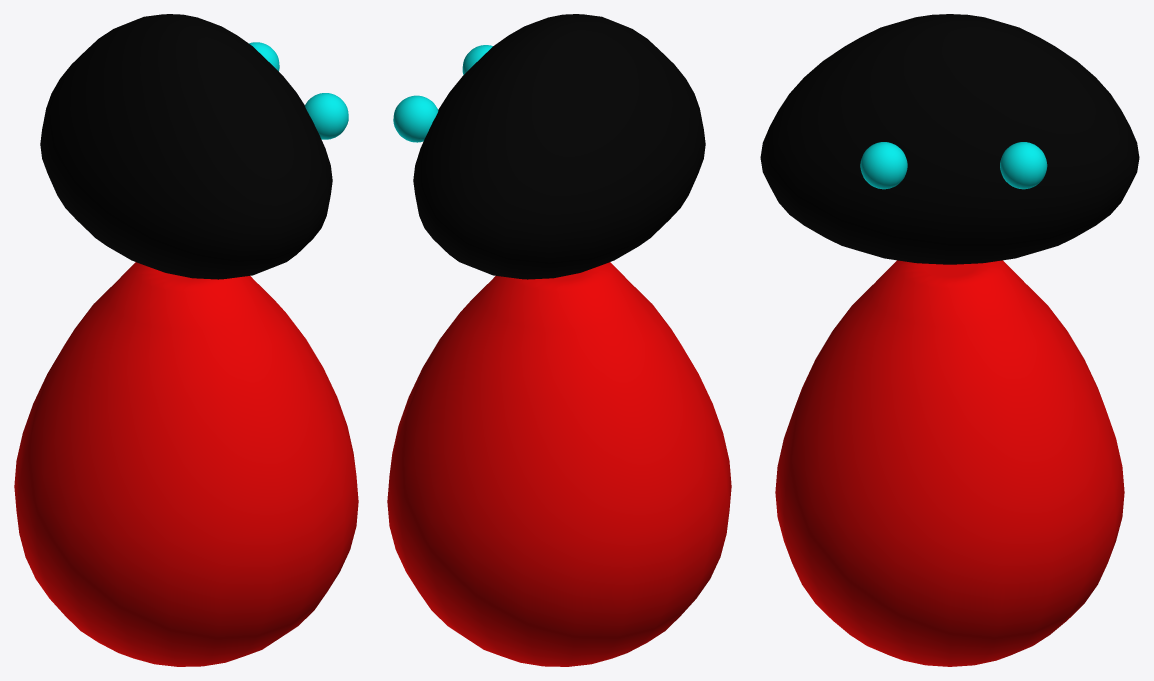
File: VillanCharacter.fbx
3 renders of one model, left to right at view 1: azimuth 30°, elevation 25°; view 2: azimuth 150°, elevation 25°; view 3: azimuth 270°, elevation 25°, orthographic.
Parts seen in each view (by area): view 1: villan, head, eyeR; view 2: villan, head, eyeL; view 3: villan, head, eyeR, eyeL.
Boxes of the visible parts, <box> form: villan: <box>14,262,358,666</box>; head: <box>40,14,332,279</box>; eyeR: <box>305,93,348,139</box>; villan: <box>387,262,731,666</box>; head: <box>413,14,705,279</box>; eyeL: <box>393,95,438,142</box>; villan: <box>775,260,1124,666</box>; head: <box>760,14,1139,264</box>; eyeR: <box>860,142,907,189</box>; eyeL: <box>1000,142,1047,189</box>.
Size of the model in its own units: 2 by 3.98 by 2.17.
